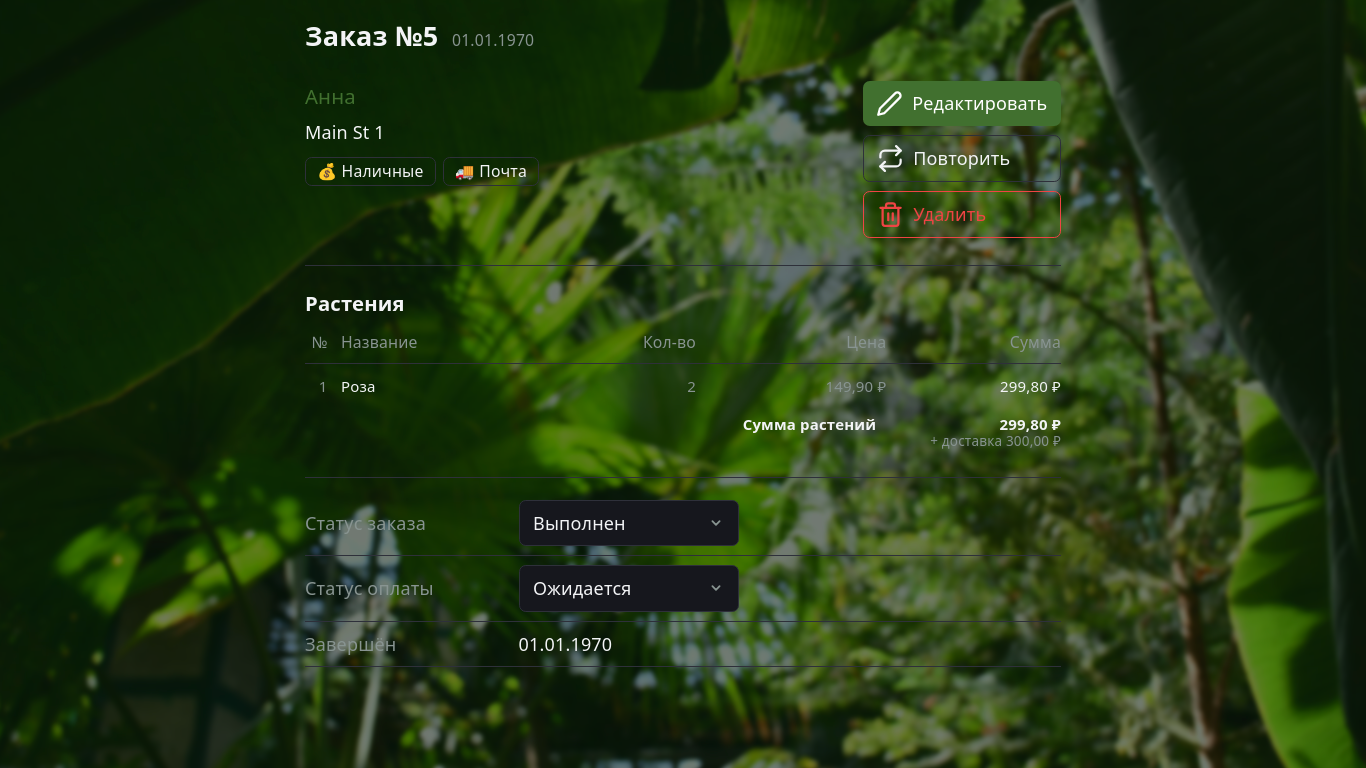
OrderDetailPage › clears the completion time when a completed order leaves a terminal status
Expected: the heading "Заказ №5" is shown, [305,18,438,54]
Expected: the text "Завершён" is shown, [305,632,396,656]
Step 1. Select "В работе" in the dropdown named "Статус заказа" → {"x": 628, "y": 523}, box [518,500,738,546]
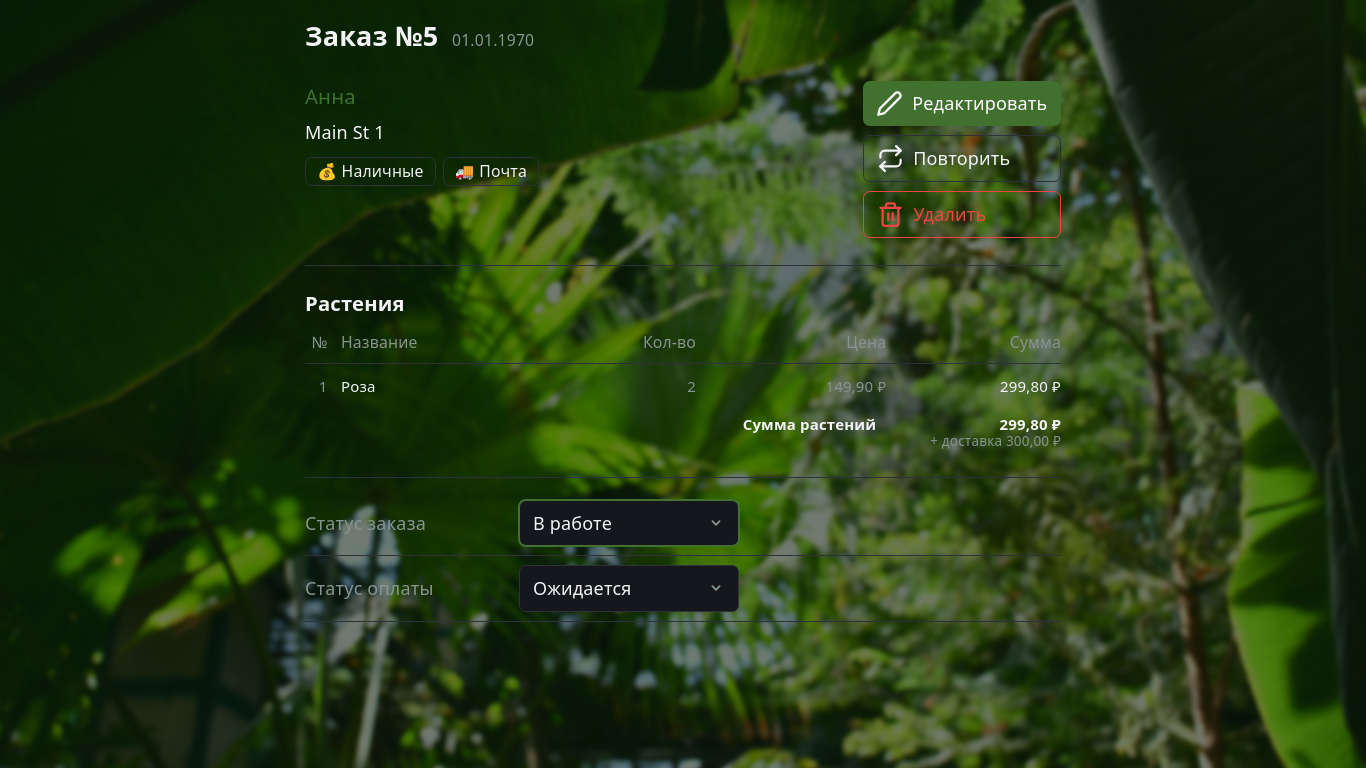
Expected: the text "Завершён" is gone
